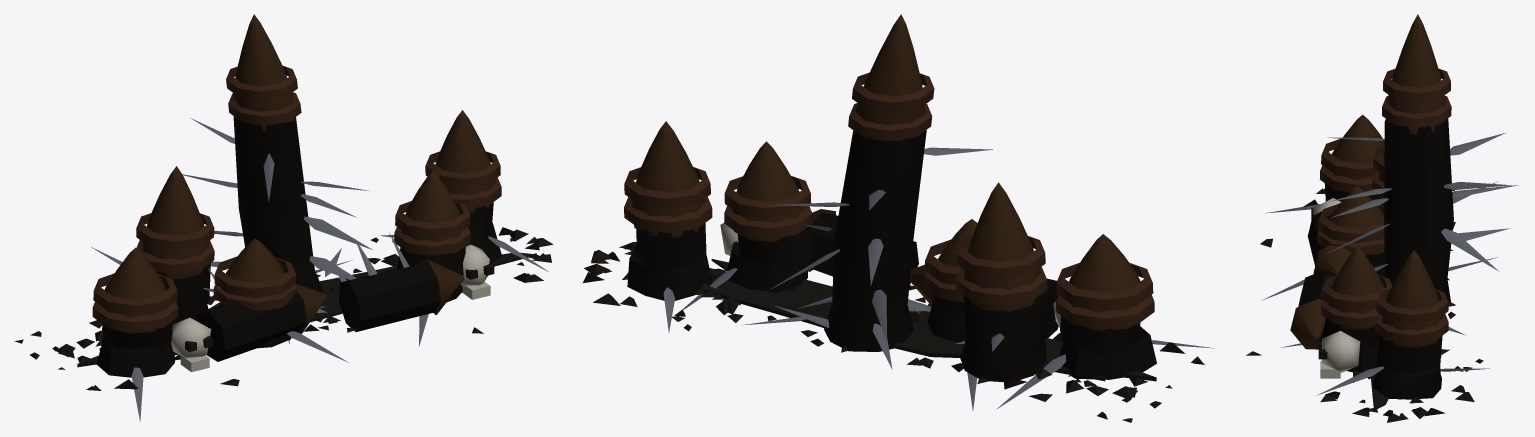
The model's file is TarPRWall05a.glb.
The picture shows the model from 3 angles, left to right: view 1: azimuth 30°, elevation 25°; view 2: azimuth 150°, elevation 25°; view 3: azimuth 270°, elevation 25°; orthographic projection. The views are drawn at different scales.
Parts seen in each view (by area): view 1: pal_body; view 2: pal_body; view 3: pal_body.
Part boxes in pixels (x1=…): pal_body: x1=14, y1=14, x2=553, y2=421; pal_body: x1=582, y1=14, x2=1213, y2=422; pal_body: x1=1246, y1=14, x2=1518, y2=422.
Size of the model in its own units: 7.47 by 4.47 by 3.67.
